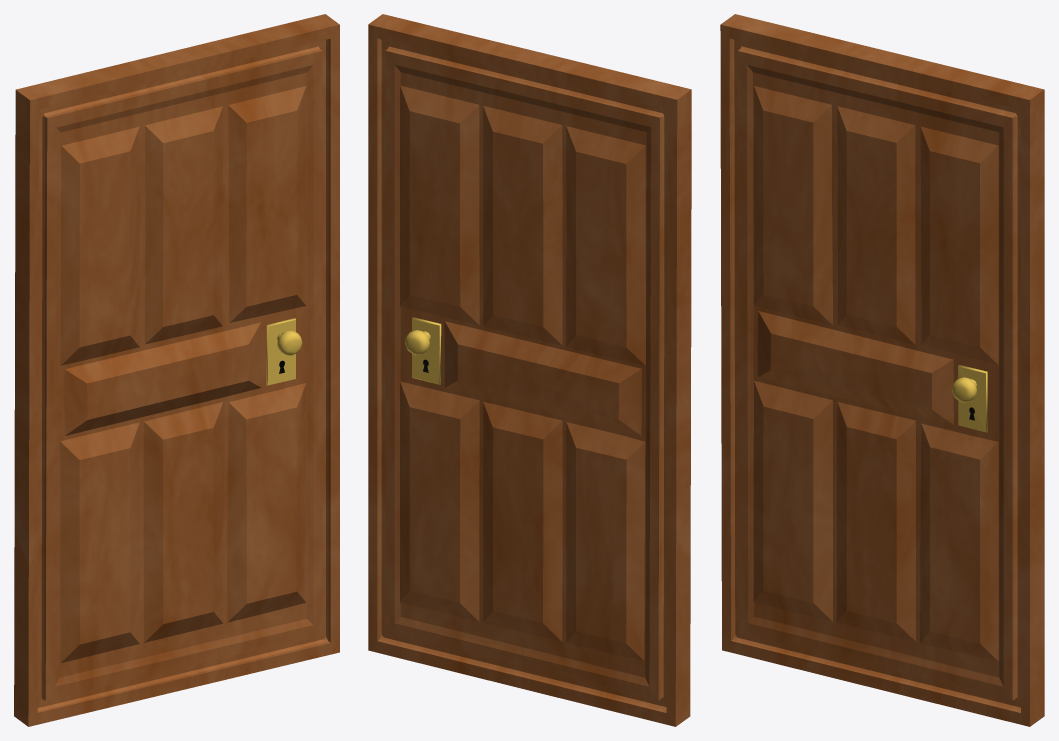
The model's file is Wooden Door.dae.
The picture shows the model from 3 angles, left to right: view 1: azimuth 30°, elevation 25°; view 2: azimuth 150°, elevation 25°; view 3: azimuth 330°, elevation 25°; orthographic projection.
Parts seen in each view (by area): view 1: Door with Textures; view 2: Door with Textures; view 3: Door with Textures.
Part boxes in pixels (<box>): Door with Textures: <box>14,14,339,726</box>; Door with Textures: <box>368,14,691,726</box>; Door with Textures: <box>720,14,1044,726</box>.
Size of the model in its own units: 1.04 by 0.2246 by 2.02.
1 material, 1 textured.
